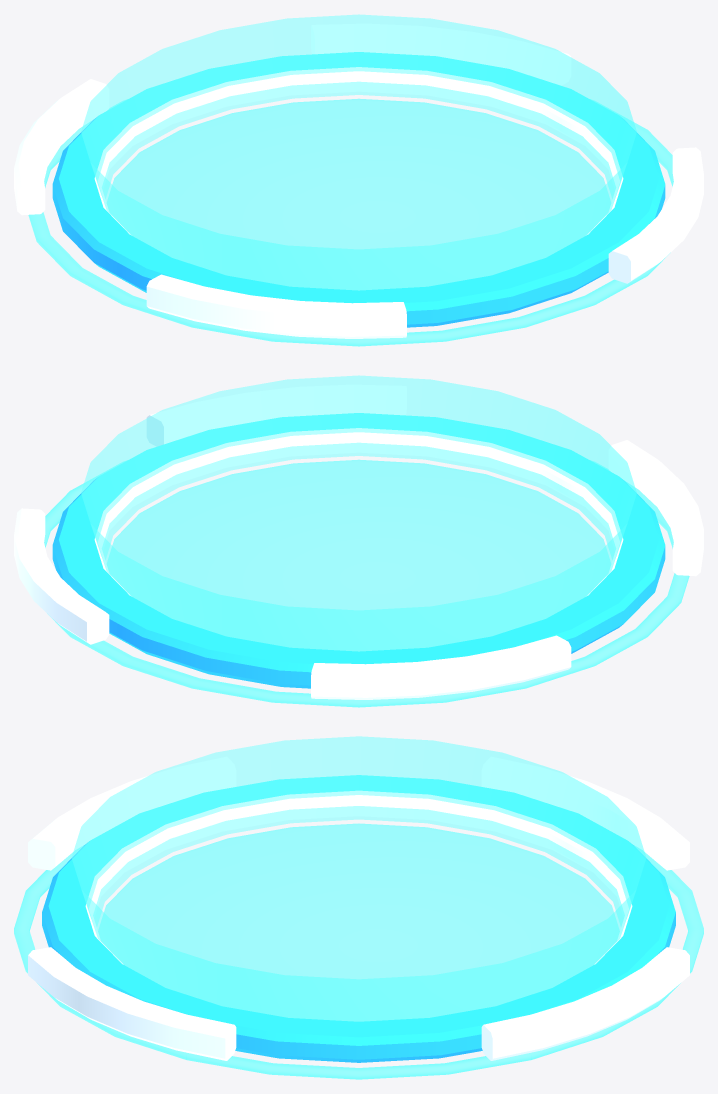
File: arrival_ring.glb
3 views of the same model, one above another, from view 1: azimuth 30°, elevation 25°; view 2: azimuth 150°, elevation 25°; view 3: azimuth 270°, elevation 25° (orthographic). The views are drawn at different scales.
Parts seen in each view (by area): view 1: ArrivalRing_FloorField, ArrivalRing_Core, ArrivalRing_HudArcs, ArrivalRing_PulseWave; view 2: ArrivalRing_FloorField, ArrivalRing_Core, ArrivalRing_HudArcs, ArrivalRing_PulseWave; view 3: ArrivalRing_FloorField, ArrivalRing_Core, ArrivalRing_HudArcs, ArrivalRing_PulseWave.
Part boxes in pixels (bbox=[...]): ArrivalRing_FloorField: bbox=[81, 14, 636, 290]; ArrivalRing_Core: bbox=[52, 52, 665, 327]; ArrivalRing_HudArcs: bbox=[14, 23, 703, 338]; ArrivalRing_PulseWave: bbox=[28, 99, 673, 346]; ArrivalRing_FloorField: bbox=[81, 375, 636, 651]; ArrivalRing_Core: bbox=[52, 413, 665, 688]; ArrivalRing_HudArcs: bbox=[14, 384, 703, 699]; ArrivalRing_PulseWave: bbox=[44, 460, 689, 707]; ArrivalRing_FloorField: bbox=[71, 736, 646, 1021]; ArrivalRing_Core: bbox=[42, 775, 675, 1062]; ArrivalRing_HudArcs: bbox=[28, 756, 689, 1060]; ArrivalRing_PulseWave: bbox=[14, 845, 703, 1079].
Size of the model in its own units: 1.18 by 0.1485 by 1.18.
